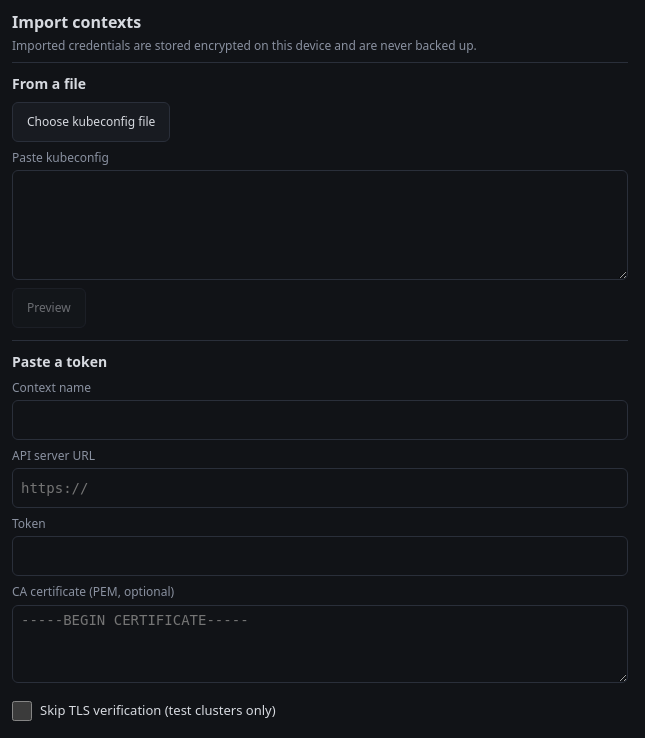
Test: ImportView › does not send replaceExisting when no selected context exists
Click the button "Choose kubeconfig file" at point(91, 122), box x1=12 y1=102 x2=170 y2=142
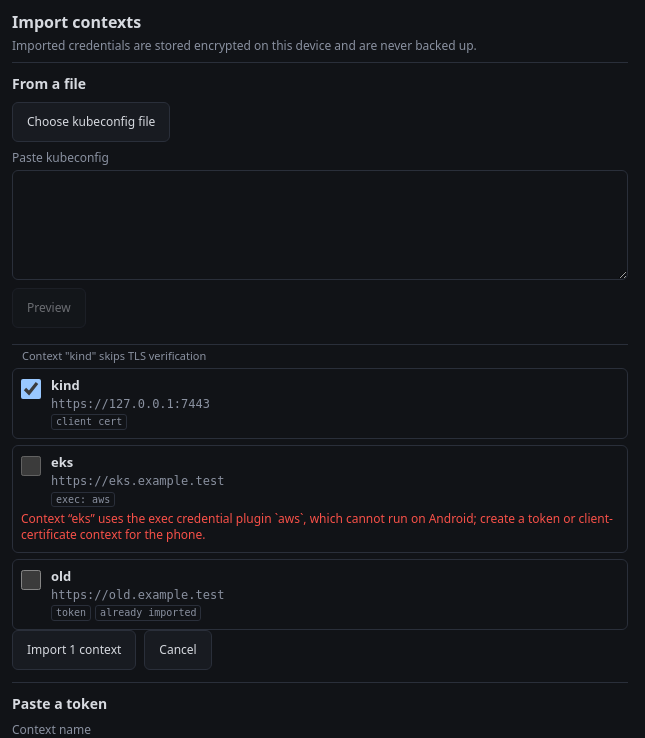
Click the button "Import 1 context" at point(74, 650), box x1=12 y1=630 x2=136 y2=670
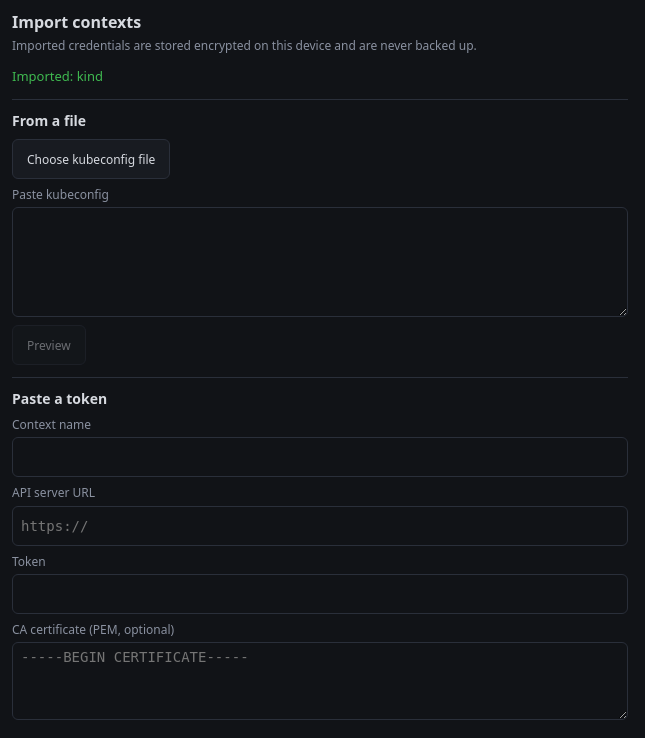
Check: the text "Imported: kind" is shown, box x1=12 y1=67 x2=103 y2=85
